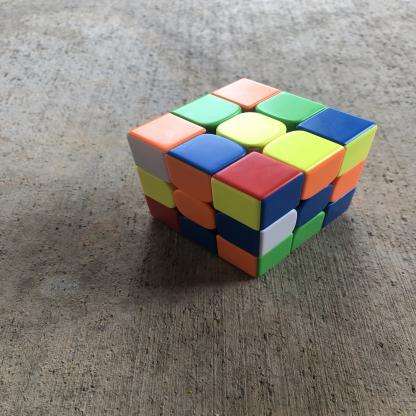UnsolvedCube: (117, 69, 387, 284)
